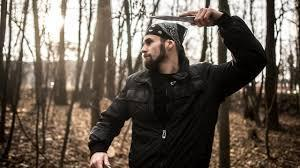Knife: (145, 10, 210, 27)
